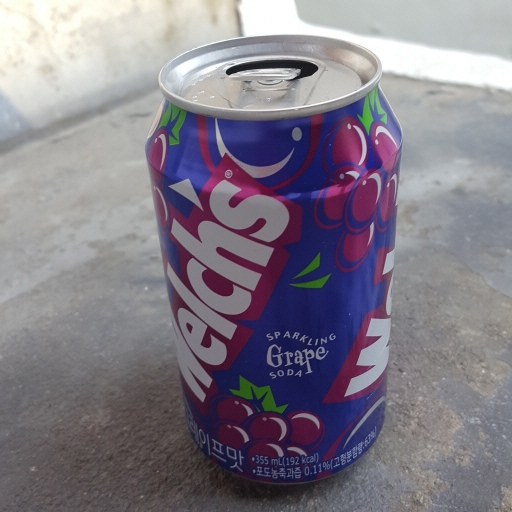Metal_0: (143, 33, 403, 489)
